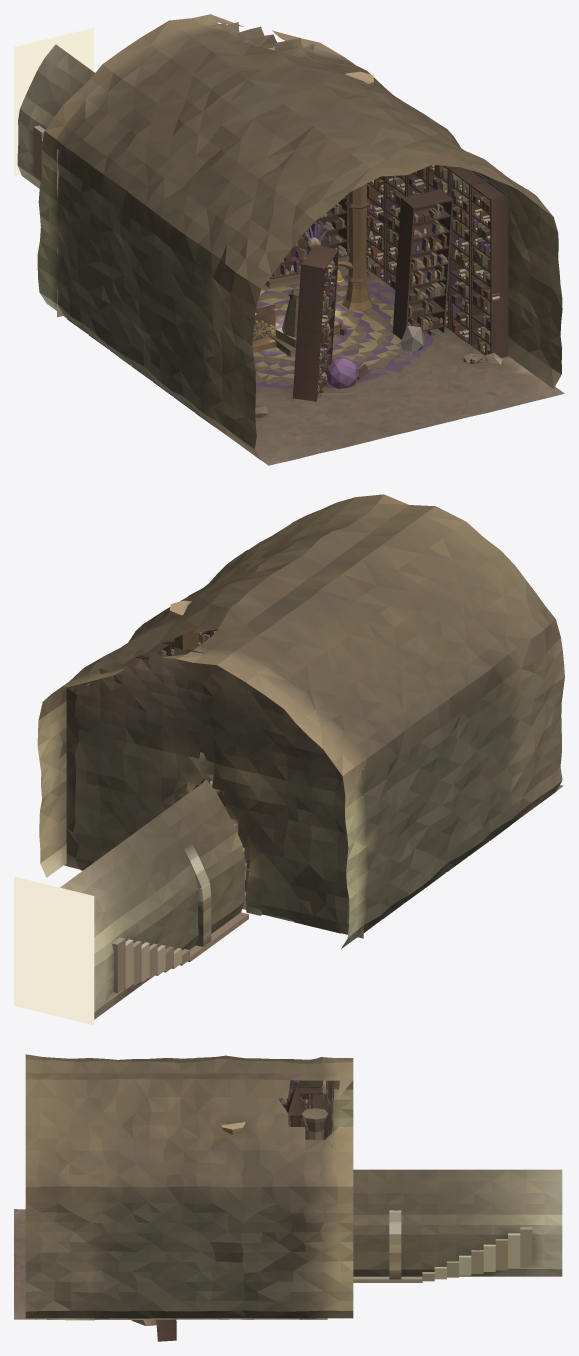
File: archive_set.glb
The picture shows the model from 3 angles, top to bottom: view 1: azimuth 30°, elevation 25°; view 2: azimuth 150°, elevation 25°; view 3: azimuth 270°, elevation 25°; orthographic projection. The views are drawn at different scales.
Parts seen in each view (by area): view 1: StaticSet, FgRight, FgLeft, Base; view 2: StaticSet; view 3: StaticSet, FgRight.
Part boxes in pixels (box(x1,y1,x2,y2)): StaticSet: box(14, 14, 564, 465); FgRight: box(392, 189, 453, 351); FgLeft: box(292, 245, 368, 401); Base: box(252, 303, 276, 353); StaticSet: box(14, 494, 564, 1025); StaticSet: box(14, 1054, 562, 1320); FgRight: box(131, 1319, 176, 1341).
Bounding box in the file's own units: 20.3 × 18.47 × 40.6.
